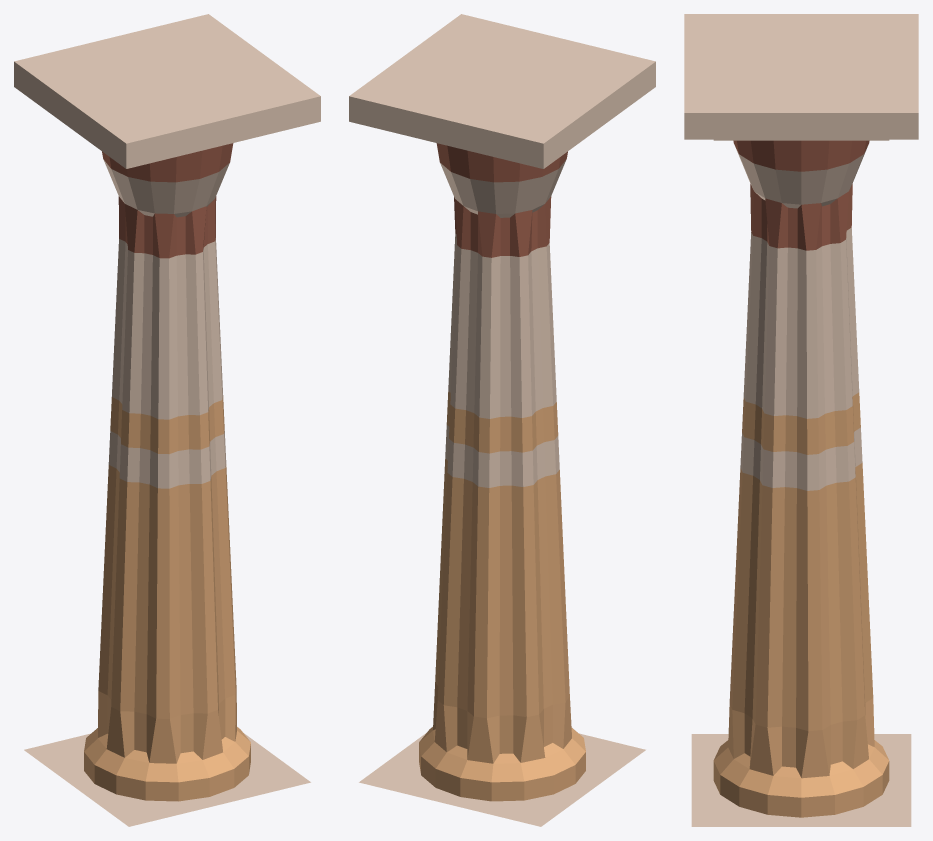
Rendered from greek_column_0.fbx.
The picture shows the model from 3 angles, left to right: view 1: azimuth 30°, elevation 25°; view 2: azimuth 150°, elevation 25°; view 3: azimuth 270°, elevation 25°; orthographic projection. The views are drawn at different scales.
Parts seen in each view (by area): view 1: Cylinder; view 2: Cylinder; view 3: Cylinder.
Boxes of the visible parts, left/top/right/bottom form: Cylinder: left=14, top=14, right=320, bottom=826; Cylinder: left=349, top=14, right=655, bottom=826; Cylinder: left=684, top=14, right=918, bottom=826.
Bounding box in the file's own units: 160 × 540 × 160.
